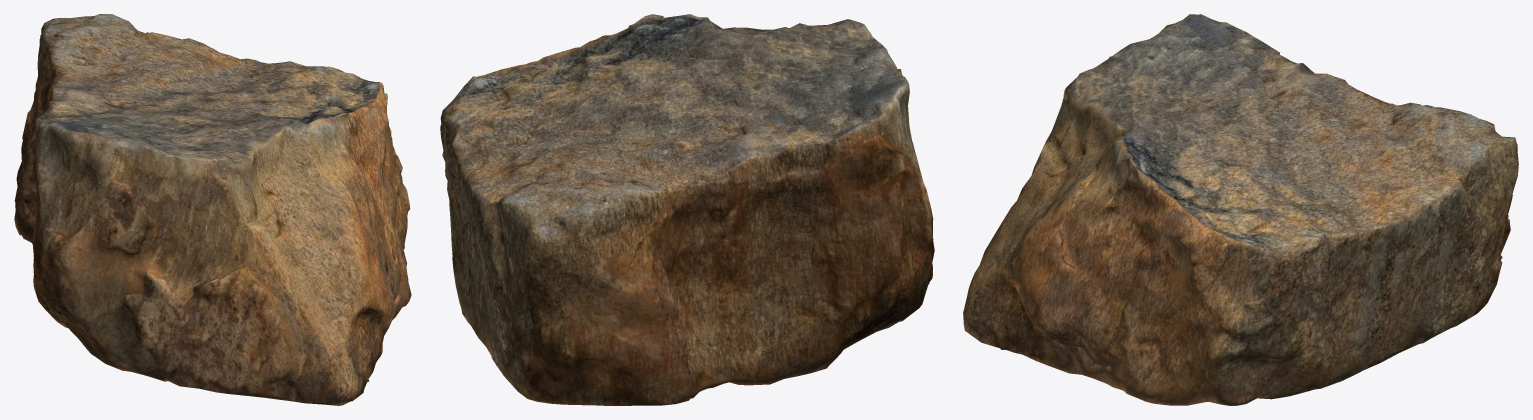
File: namaqualand_boulder_03.glb
3 renders of one model, left to right at view 1: azimuth 30°, elevation 25°; view 2: azimuth 150°, elevation 25°; view 3: azimuth 270°, elevation 25°, orthographic. The views are drawn at different scales.
Parts seen in each view (by area): view 1: boulder_03_LOD0; view 2: boulder_03_LOD0; view 3: boulder_03_LOD0.
Boxes of the visible parts, box(x1,y1,x2,y2) form: boulder_03_LOD0: box(14, 14, 411, 405); boulder_03_LOD0: box(440, 14, 934, 405); boulder_03_LOD0: box(963, 14, 1518, 405).
Size of the model in its own units: 2.4 by 1.47 by 3.06.
1 material, 1 textured.
